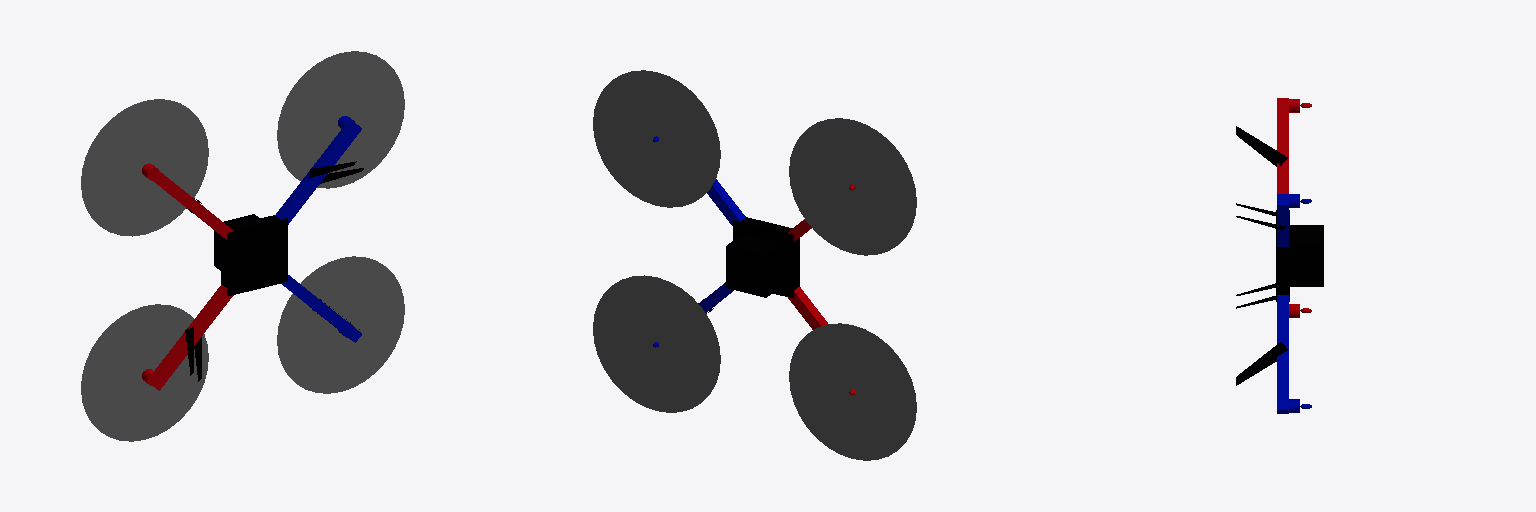
Rendered from 3dr_arducopter_quad_x.obj.
3 renders of one model, left to right at view 1: azimuth 30°, elevation 25°; view 2: azimuth 150°, elevation 25°; view 3: azimuth 270°, elevation 25°, orthographic.
Visible parts, largest first — view 1: Prop.003_Circle.000_Gray_Plastic, Prop.001_Circle.002_Gray_Plastic, Prop.004_Circle.000_Gray_Plastic, Prop.002_Circle.002_Gray_Plastic, Base_Cube_Textolite, Arm.003_Cube.002_Black_Metal, Arm_Cube.004_Blue_Metal, Arm.002_Cube.002_Black_Metal, Arm.001_Cube.004_Blue_Metal, Leg_Plane.001_Textolite, Leg.004_Plane.000_Textolite; view 2: Prop.004_Circle.000_Gray_Plastic, Prop.003_Circle.000_Gray_Plastic, Prop.001_Circle.002_Gray_Plastic, Prop.002_Circle.002_Gray_Plastic, Body_Cube.001_Textolite, Base_Cube_Textolite, Arm_Cube.004_Blue_Metal, Arm.003_Cube.002_Black_Metal; view 3: Body_Cube.001_Textolite, Arm.001_Cube.004_Blue_Metal, Arm.002_Cube.002_Black_Metal, Base_Cube_Textolite, Leg.001_Plane.001_Textolite, Leg.003_Plane.000_Textolite, Arm_Cube.004_Blue_Metal.
Part boxes in pixels (left/top/right/bottom): Prop.003_Circle.000_Gray_Plastic: left=81, top=99, right=208, bottom=236; Prop.001_Circle.002_Gray_Plastic: left=277, top=256, right=404, bottom=393; Prop.004_Circle.000_Gray_Plastic: left=81, top=304, right=208, bottom=441; Prop.002_Circle.002_Gray_Plastic: left=277, top=51, right=404, bottom=188; Base_Cube_Textolite: left=221, top=215, right=287, bottom=295; Arm.003_Cube.002_Black_Metal: left=147, top=284, right=233, bottom=390; Arm_Cube.004_Blue_Metal: left=275, top=119, right=361, bottom=224; Arm.002_Cube.002_Black_Metal: left=147, top=167, right=233, bottom=239; Arm.001_Cube.004_Blue_Metal: left=281, top=275, right=361, bottom=342; Leg_Plane.001_Textolite: left=309, top=161, right=363, bottom=183; Leg.004_Plane.000_Textolite: left=185, top=327, right=201, bottom=381; Prop.004_Circle.000_Gray_Plastic: left=789, top=323, right=916, bottom=460; Prop.003_Circle.000_Gray_Plastic: left=789, top=118, right=916, bottom=255; Prop.001_Circle.002_Gray_Plastic: left=593, top=275, right=720, bottom=412; Prop.002_Circle.002_Gray_Plastic: left=593, top=70, right=720, bottom=207; Body_Cube.001_Textolite: left=726, top=234, right=782, bottom=297; Base_Cube_Textolite: left=733, top=217, right=799, bottom=298; Arm_Cube.004_Blue_Metal: left=707, top=179, right=745, bottom=225; Arm.003_Cube.002_Black_Metal: left=788, top=287, right=827, bottom=329; Body_Cube.001_Textolite: left=1290, top=225, right=1323, bottom=286; Arm.001_Cube.004_Blue_Metal: left=1277, top=295, right=1288, bottom=413; Arm.002_Cube.002_Black_Metal: left=1277, top=98, right=1288, bottom=193; Base_Cube_Textolite: left=1276, top=210, right=1289, bottom=301; Leg.001_Plane.001_Textolite: left=1236, top=342, right=1287, bottom=385; Leg.003_Plane.000_Textolite: left=1236, top=126, right=1287, bottom=166; Arm_Cube.004_Blue_Metal: left=1277, top=194, right=1288, bottom=246.
Size of the model in its own units: 0.6429 by 0.6429 by 0.1497.